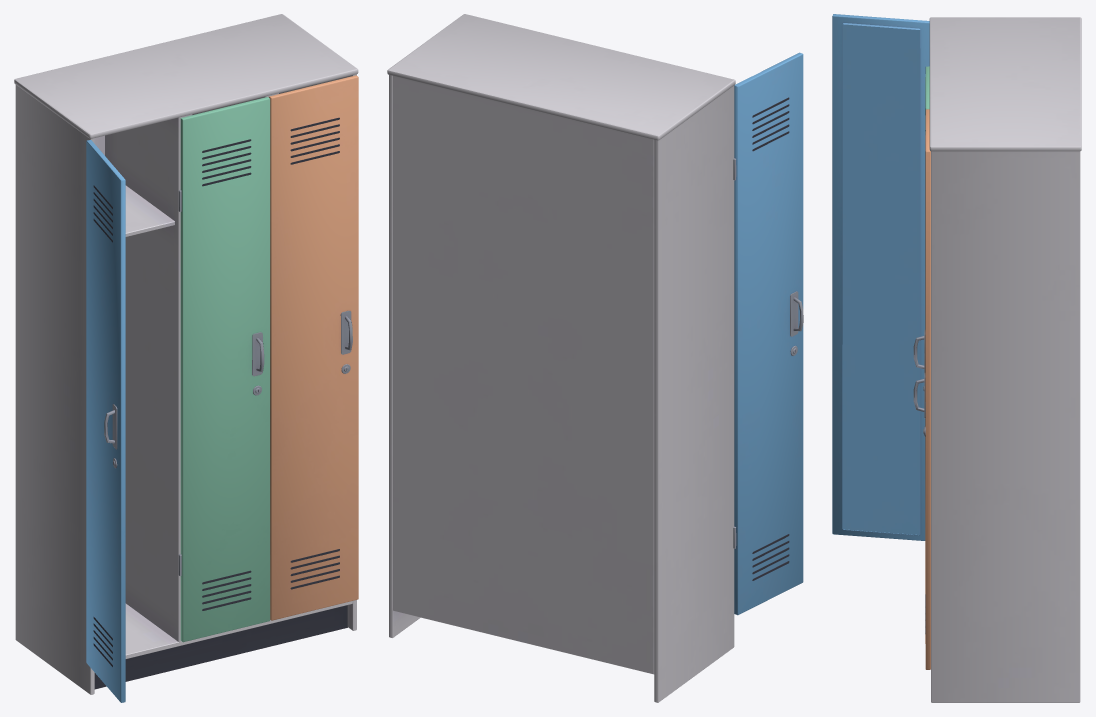
File: school-locker-leve.glb
The picture shows the model from 3 angles, left to right: view 1: azimuth 30°, elevation 25°; view 2: azimuth 150°, elevation 25°; view 3: azimuth 270°, elevation 25°; orthographic projection.
Parts seen in each view (by area): view 1: school-locker_body, school-locker_mid_door_l, school-locker_right_door_l, school-locker_door_l; view 2: school-locker_body, school-locker_door_l; view 3: school-locker_body, school-locker_door_l, school-locker_right_door_l, school-locker_mid_door_l.
Part boxes in pixels (<box>): school-locker_body: <box>14,14,358,694</box>; school-locker_mid_door_l: <box>178,97,270,642</box>; school-locker_right_door_l: <box>269,75,358,620</box>; school-locker_door_l: <box>86,140,125,702</box>; school-locker_body: <box>387,14,735,702</box>; school-locker_door_l: <box>733,52,803,615</box>; school-locker_body: <box>929,17,1081,702</box>; school-locker_door_l: <box>832,14,929,540</box>; school-locker_right_door_l: <box>913,109,930,669</box>; school-locker_mid_door_l: <box>913,66,929,390</box>.
Size of the model in its own units: 1.02 by 1.85 by 0.7511.
4 materials, 4 textured.
